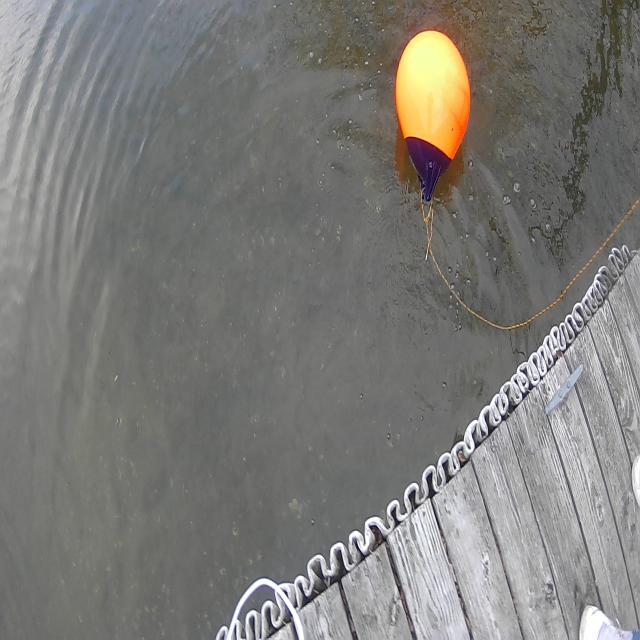Buoy: (389, 14, 472, 204)
